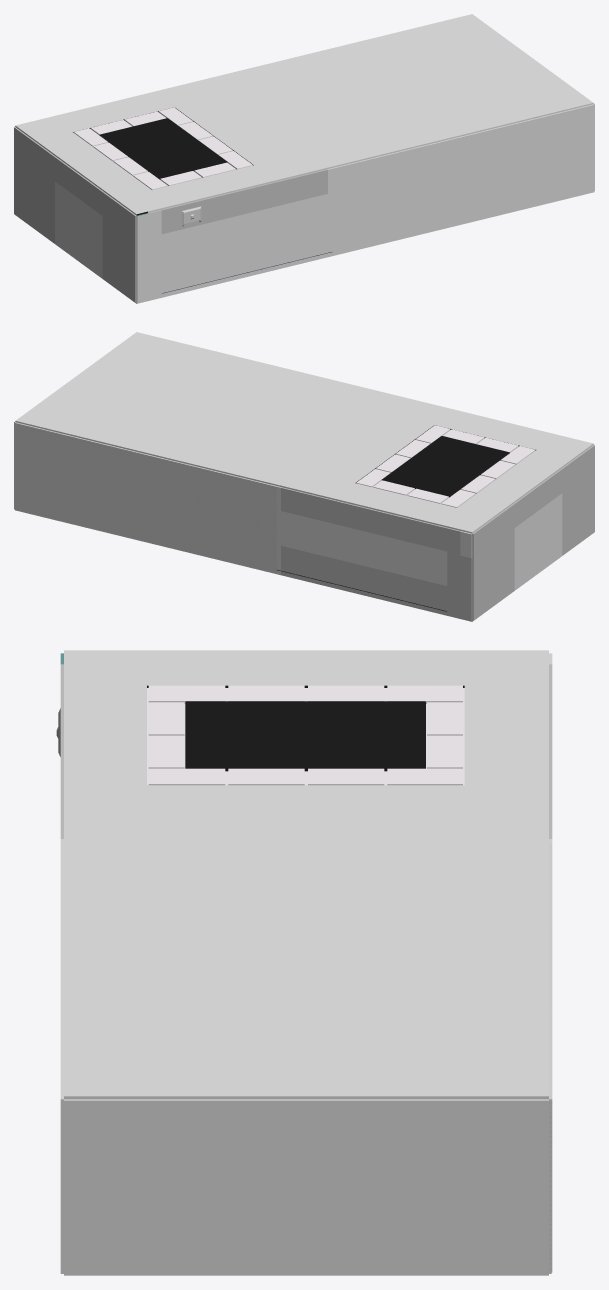
Rendered from Operation Room.fbx.
3 views of the same model, one above another, from view 1: azimuth 30°, elevation 25°; view 2: azimuth 150°, elevation 25°; view 3: azimuth 270°, elevation 25° (orthographic). The views are drawn at different scales.
Parts seen in each view (by area): view 1: G-Object.002, _G-R00M (Loose Mesh); view 2: G-Object.002, _G-R00M (Loose Mesh); view 3: G-Object.002, _G-R00M (Loose Mesh), C-CEILING_LIGHT00, G-Object.003, CEILING_LIGHT00 (C-CEILING_LIGHT00), C-CEILING_LIGHT00.009, C-CEILING_LIGHT00.003, C-CEILING_LIGHT00.006, C-CEILING_LIGHT00.004, C-CEILING_LIGHT00.005, C-CEILING_LIGHT00.002, C-CEILING_LIGHT00.007 (+2 smaller).
Part boxes in pixels (bbox=[...]): G-Object.002: bbox=[211, 14, 594, 257]; _G-R00M (Loose Mesh): bbox=[14, 78, 332, 303]; G-Object.002: bbox=[14, 332, 397, 575]; _G-R00M (Loose Mesh): bbox=[276, 396, 594, 621]; G-Object.002: bbox=[60, 840, 552, 1275]; _G-R00M (Loose Mesh): bbox=[60, 650, 552, 843]; C-CEILING_LIGHT00: bbox=[226, 768, 306, 785]; G-Object.003: bbox=[147, 768, 226, 785]; CEILING_LIGHT00 (C-CEILING_LIGHT00): bbox=[306, 768, 385, 785]; C-CEILING_LIGHT00.009: bbox=[386, 768, 464, 785]; C-CEILING_LIGHT00.003: bbox=[147, 685, 226, 704]; C-CEILING_LIGHT00.006: bbox=[386, 685, 464, 704]; C-CEILING_LIGHT00.004: bbox=[226, 685, 306, 701]; C-CEILING_LIGHT00.005: bbox=[306, 685, 385, 701]; C-CEILING_LIGHT00.002: bbox=[147, 702, 185, 737]; C-CEILING_LIGHT00.007: bbox=[426, 702, 464, 737].
Size of the model in its own units: 1663 by 311 by 776.
